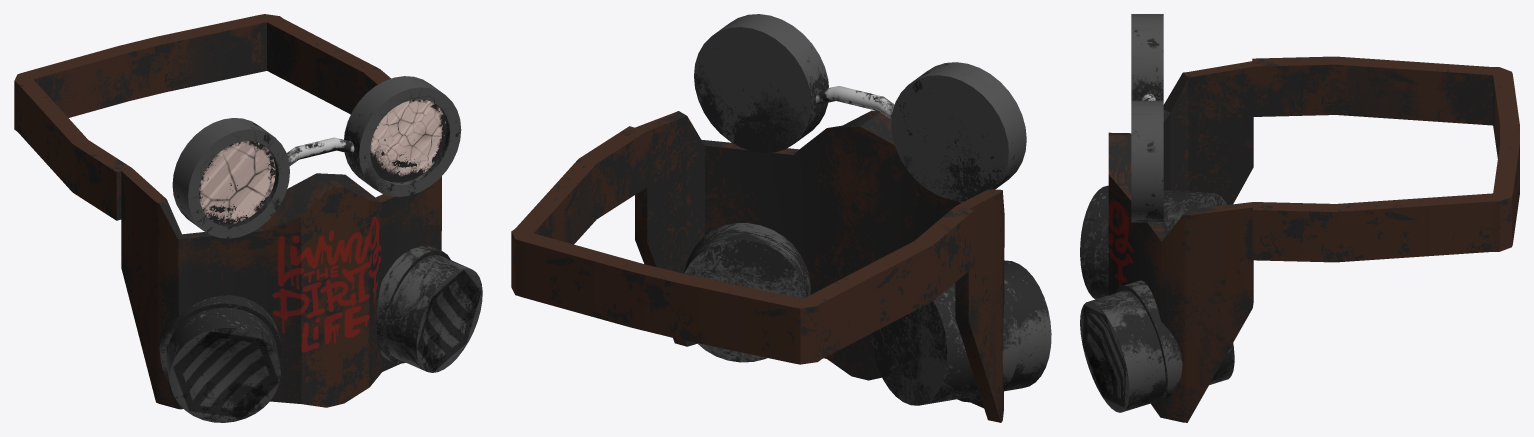
Rendered from gas mask.fbx.
3 views of the same model, side by side, from view 1: azimuth 30°, elevation 25°; view 2: azimuth 150°, elevation 25°; view 3: azimuth 270°, elevation 25° (orthographic). The views are drawn at different scales.
Visible parts, largest first — view 1: Plane; view 2: Plane; view 3: Plane.
Boxes of the visible parts, <box> form: Plane: <box>14,14,482,422</box>; Plane: <box>511,14,1051,422</box>; Plane: <box>1080,14,1519,422</box>.
Bounding box in the file's own units: 94.17 × 82.85 × 111.
